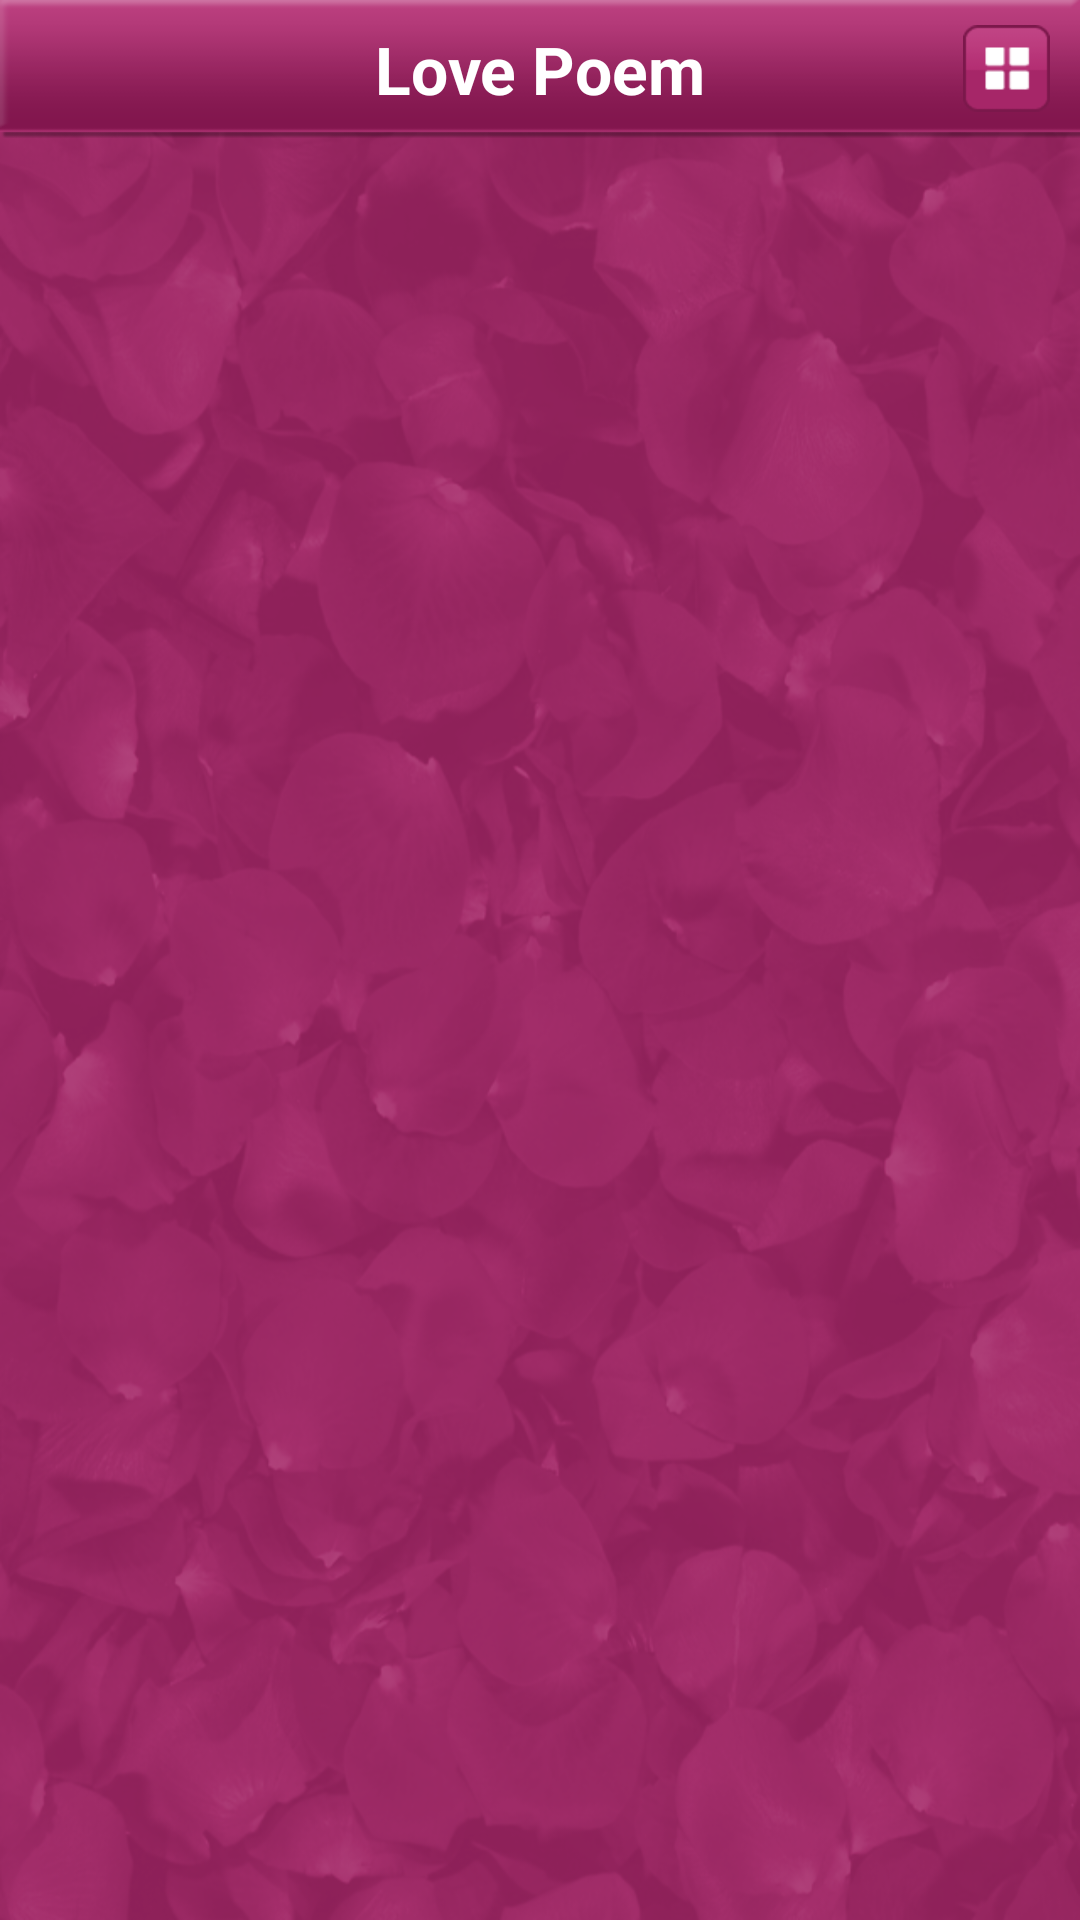

Point at icon controls on the screen. Image size 1080x1920, points as [x,y].
grid view: [1006,68]
